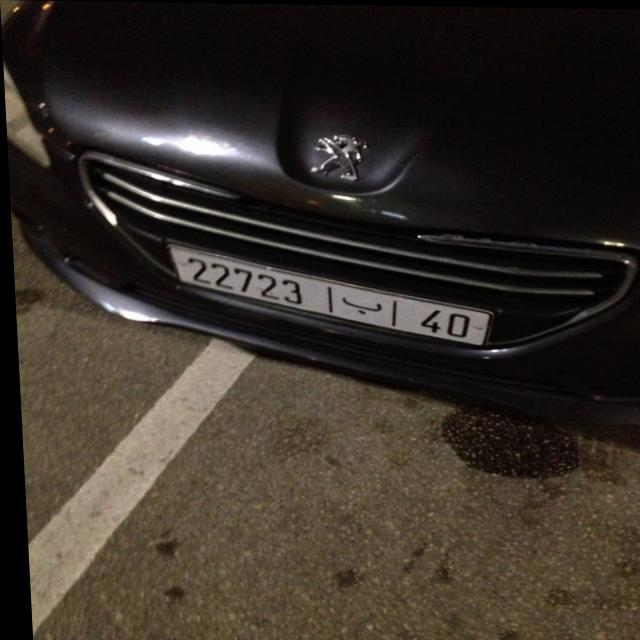License-Plate: (167, 244, 489, 344)
